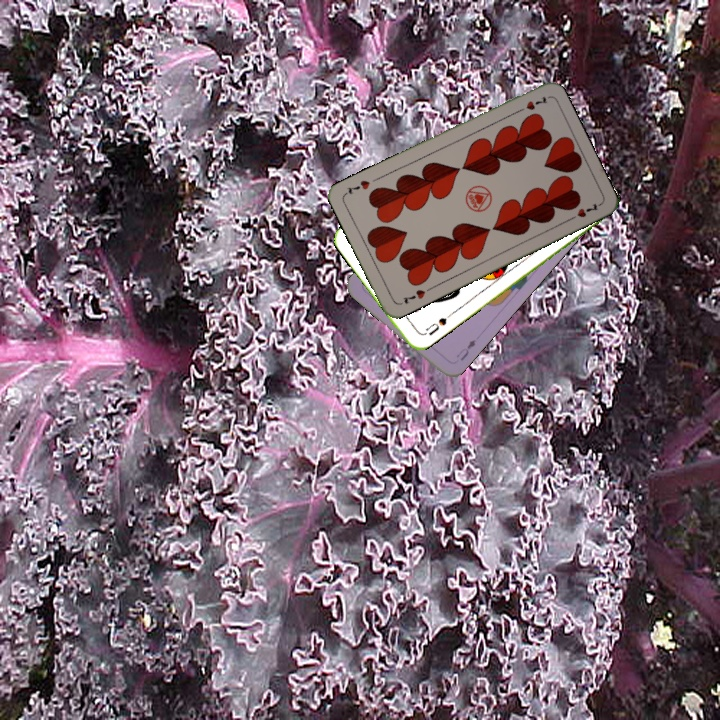EU: (452, 335, 478, 363)
H7: (512, 92, 550, 116), (399, 285, 428, 306)
SU: (418, 313, 449, 338)
